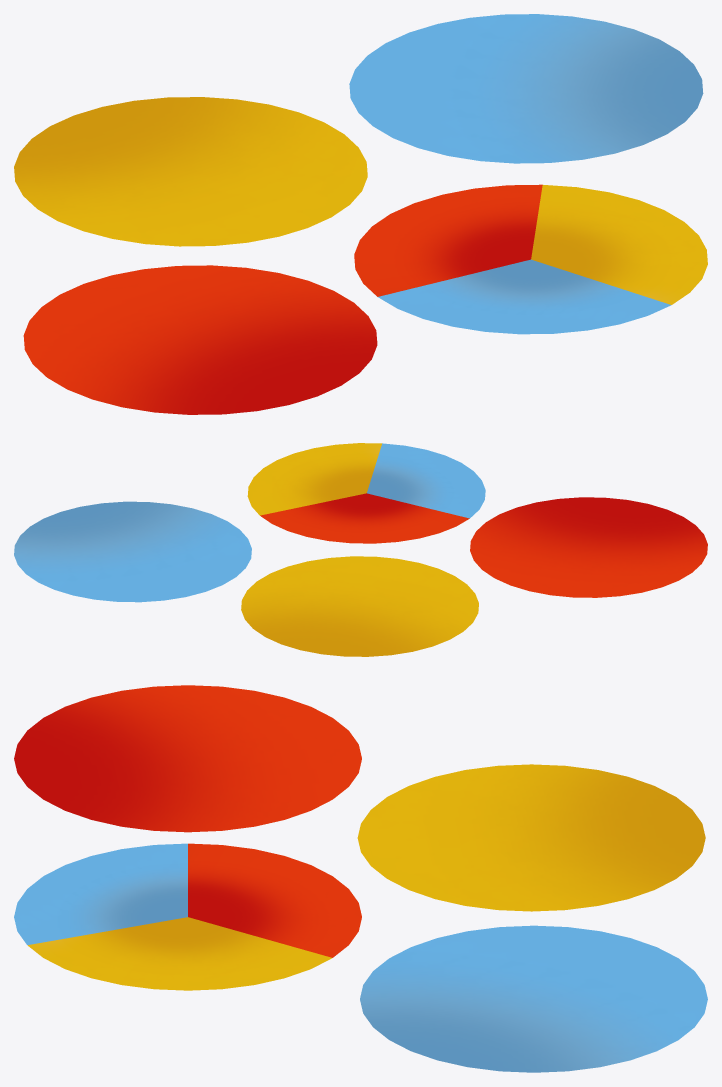
The model's file is graphics.fbx.
3 views of the same model, one above another, from view 1: azimuth 30°, elevation 25°; view 2: azimuth 150°, elevation 25°; view 3: azimuth 270°, elevation 25° (orthographic). The views are drawn at different scales.
Parts seen in each view (by area): view 1: Circle_Blue, Circle_Red, Circle_Yellow, Slice_Red, Slice_Yellow, Slice_Blue; view 2: Circle_Red, Circle_Yellow, Circle_Blue, Slice_Red, Slice_Yellow, Slice_Blue; view 3: Circle_Yellow, Circle_Blue, Circle_Red, Slice_Yellow, Slice_Red, Slice_Blue.
Part boxes in pixels (<box>): Circle_Blue: <box>349,14,703,163</box>; Circle_Red: <box>23,265,377,414</box>; Circle_Yellow: <box>14,97,367,246</box>; Slice_Red: <box>354,184,542,296</box>; Slice_Yellow: <box>531,185,707,304</box>; Slice_Blue: <box>378,259,671,334</box>; Circle_Red: <box>470,497,707,597</box>; Circle_Yellow: <box>241,556,478,656</box>; Circle_Blue: <box>14,501,251,602</box>; Slice_Red: <box>260,493,469,543</box>; Slice_Yellow: <box>247,443,381,515</box>; Slice_Blue: <box>367,443,485,518</box>; Circle_Yellow: <box>357,764,705,911</box>; Circle_Blue: <box>360,925,707,1072</box>; Circle_Red: <box>14,685,361,832</box>; Slice_Yellow: <box>28,917,331,990</box>; Slice_Red: <box>188,843,361,957</box>; Slice_Blue: <box>14,843,187,945</box>.
Bounding box in the file's own units: 5.27 × 3.26e-07 × 3.99.
1 material, 1 textured.
